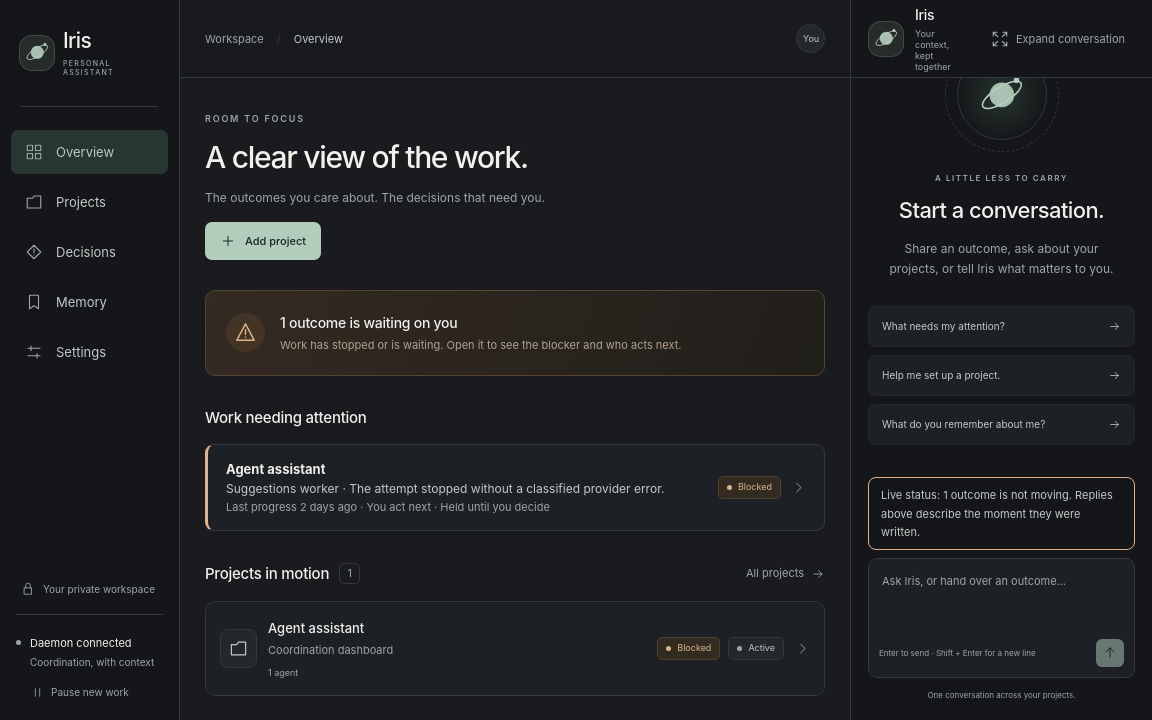
Test: project context and next outcome › shows a blocked worker on the overview when no decision is waiting
(page scrolled)
Expected: the element "Work needing attention" shows "You act next", x1=205 y1=408 x2=825 y2=531
Click the button "Agent assistant" at x=515, y=488, box x1=205 y1=444 x2=825 y2=531
(page scrolled)
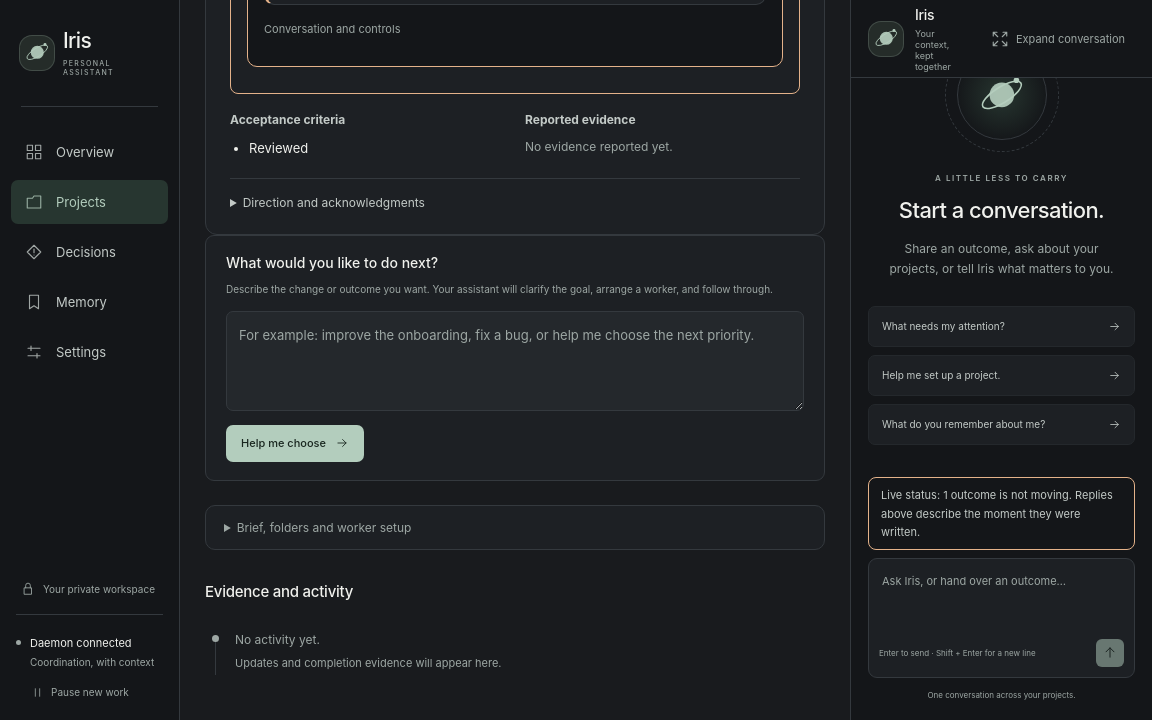
Now the text box labelled "What would you like to do next?" is shown, box x1=226 y1=311 x2=804 y2=411
